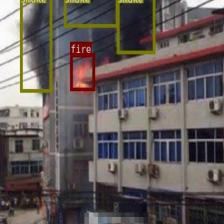fire: (69, 54, 94, 90)
smoke: (20, 0, 52, 92), (116, 0, 154, 53), (64, 0, 118, 27)
